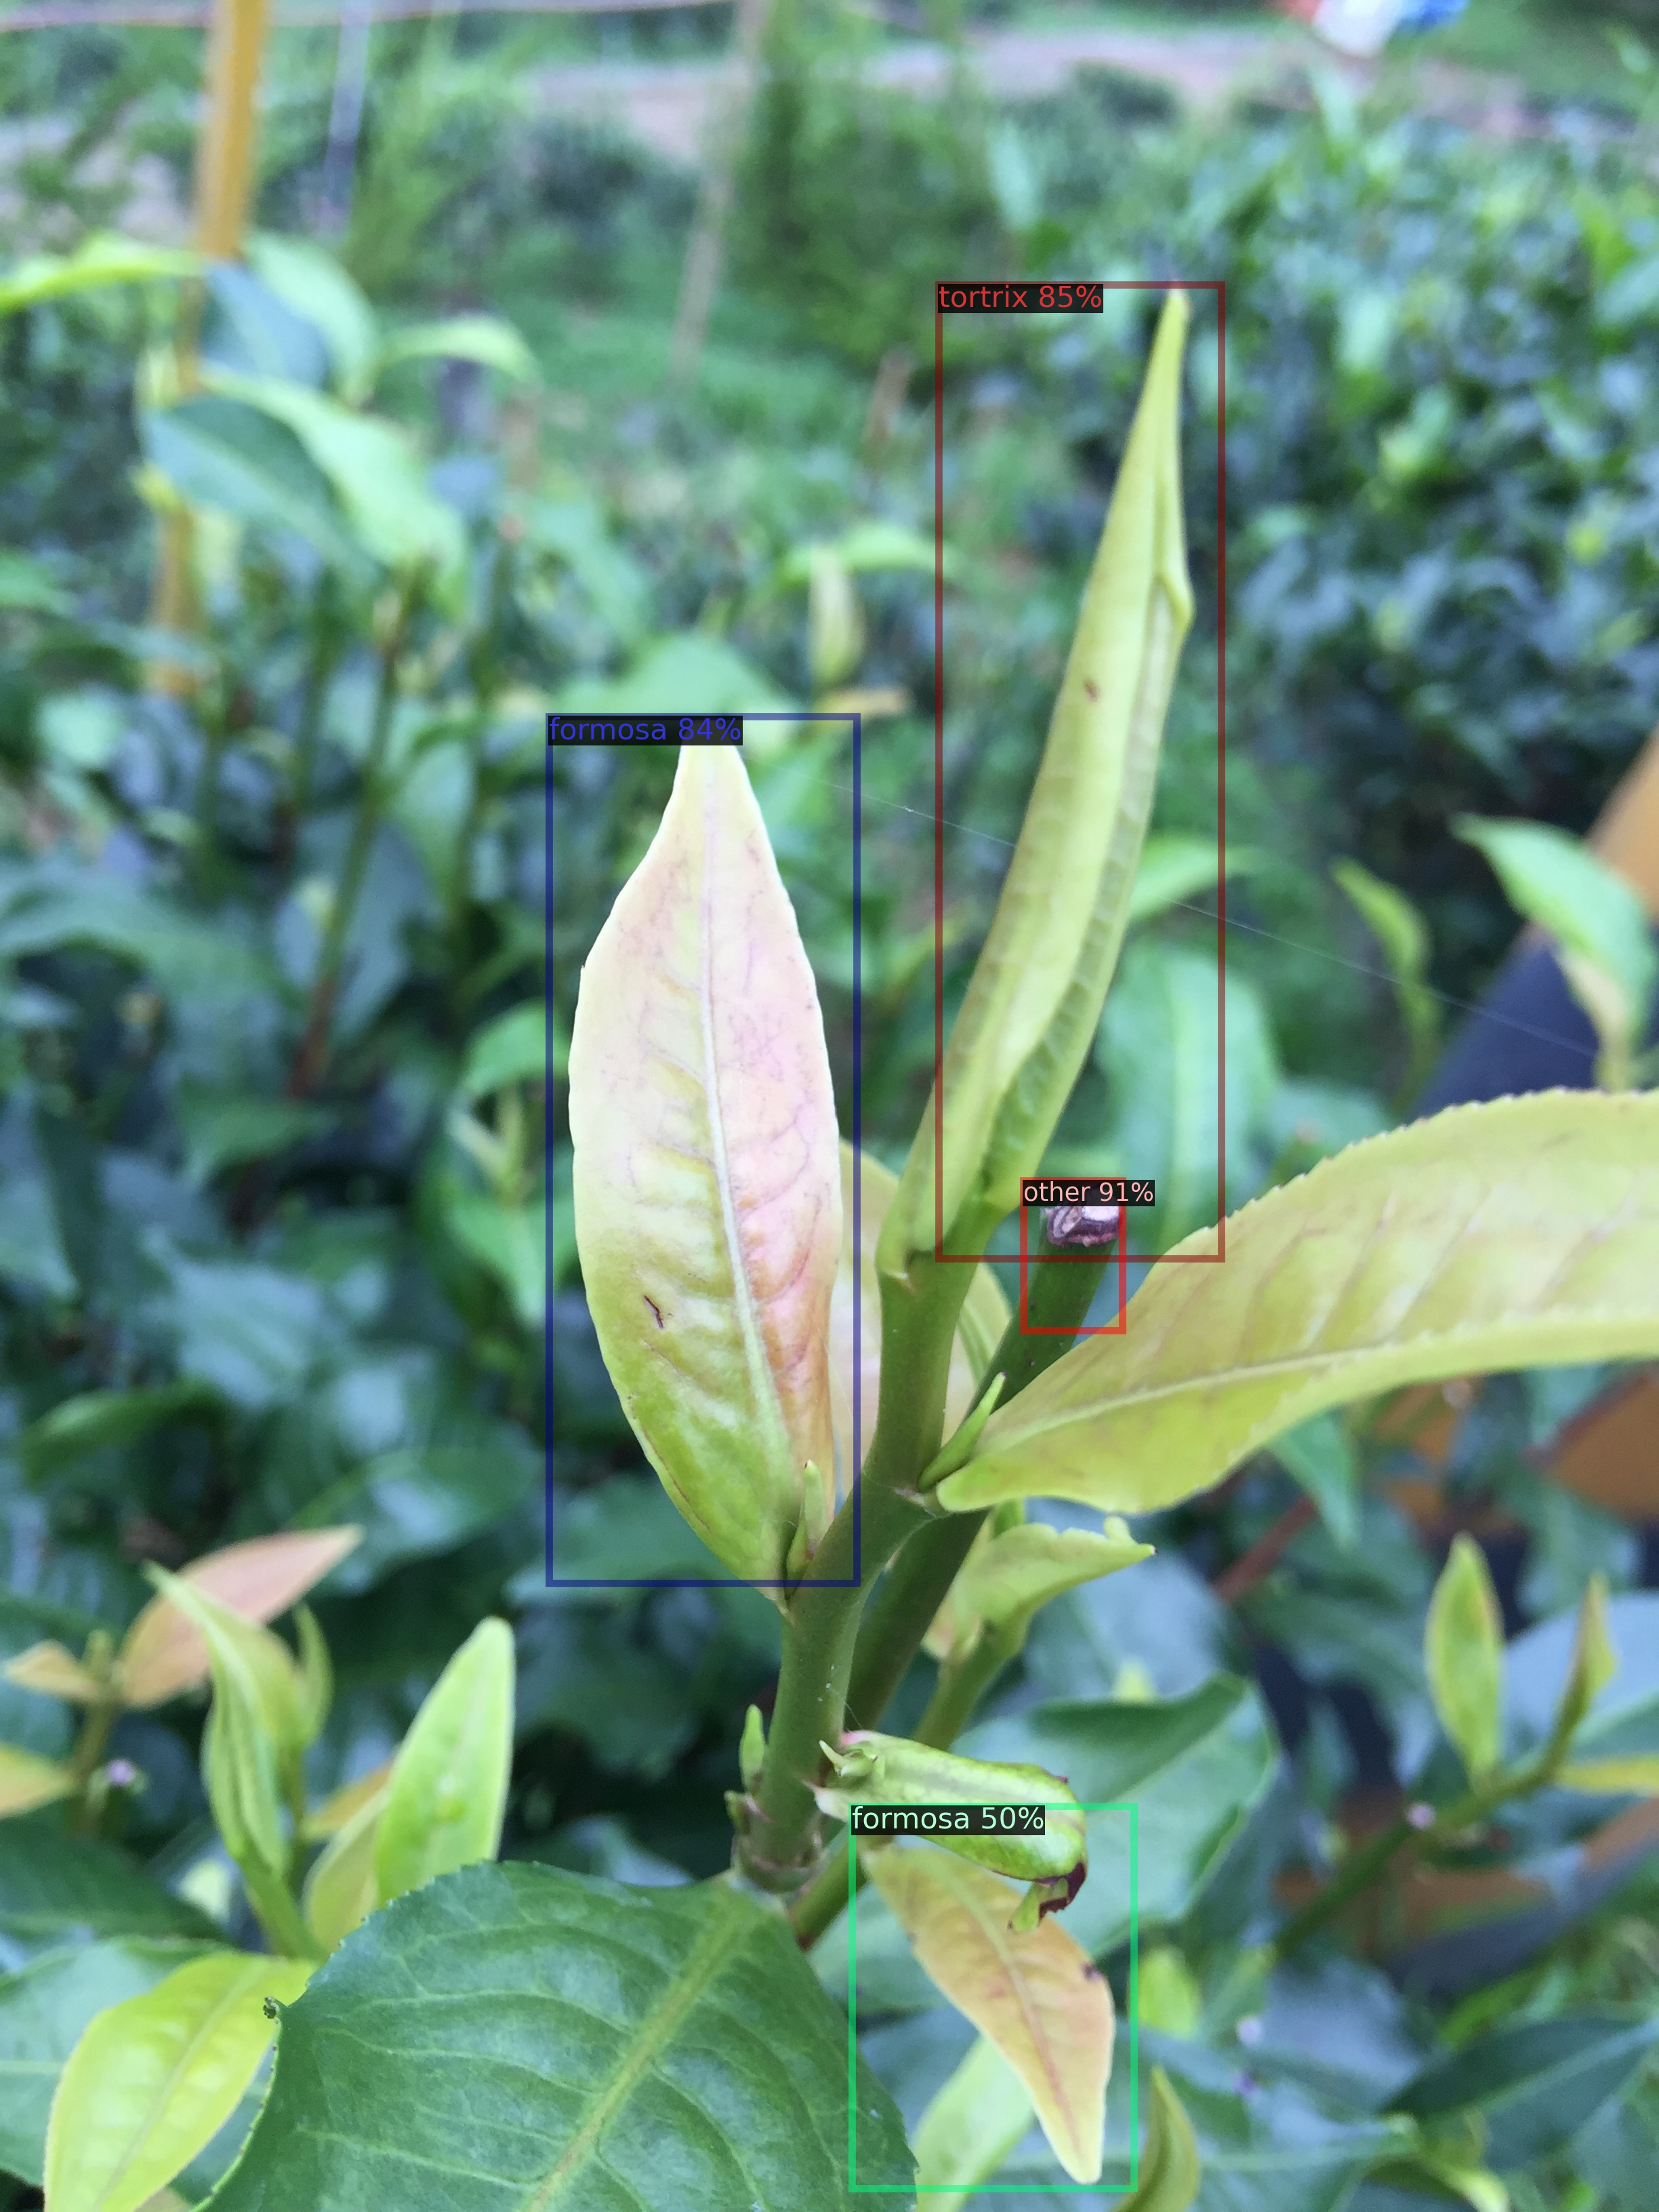formosa: (549, 716, 856, 1583), (850, 1806, 1133, 2188)
other: (1023, 1181, 1122, 1329)
tortrix: (939, 284, 1220, 1258)
